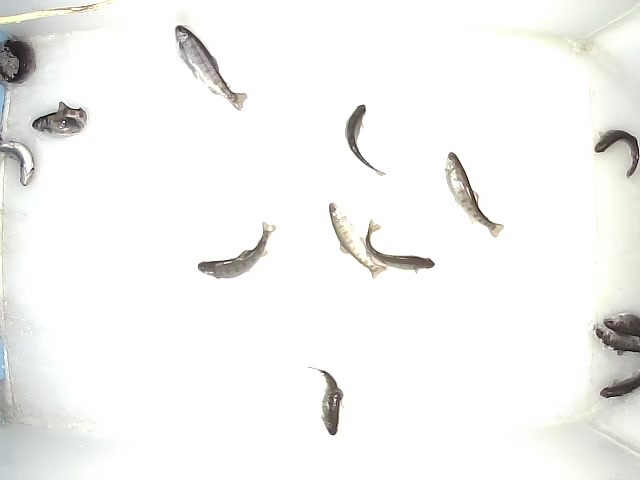fish: (174, 22, 250, 111), (444, 151, 508, 242), (196, 218, 276, 282), (341, 102, 387, 179), (305, 359, 344, 438), (591, 126, 640, 179), (31, 101, 88, 136)
